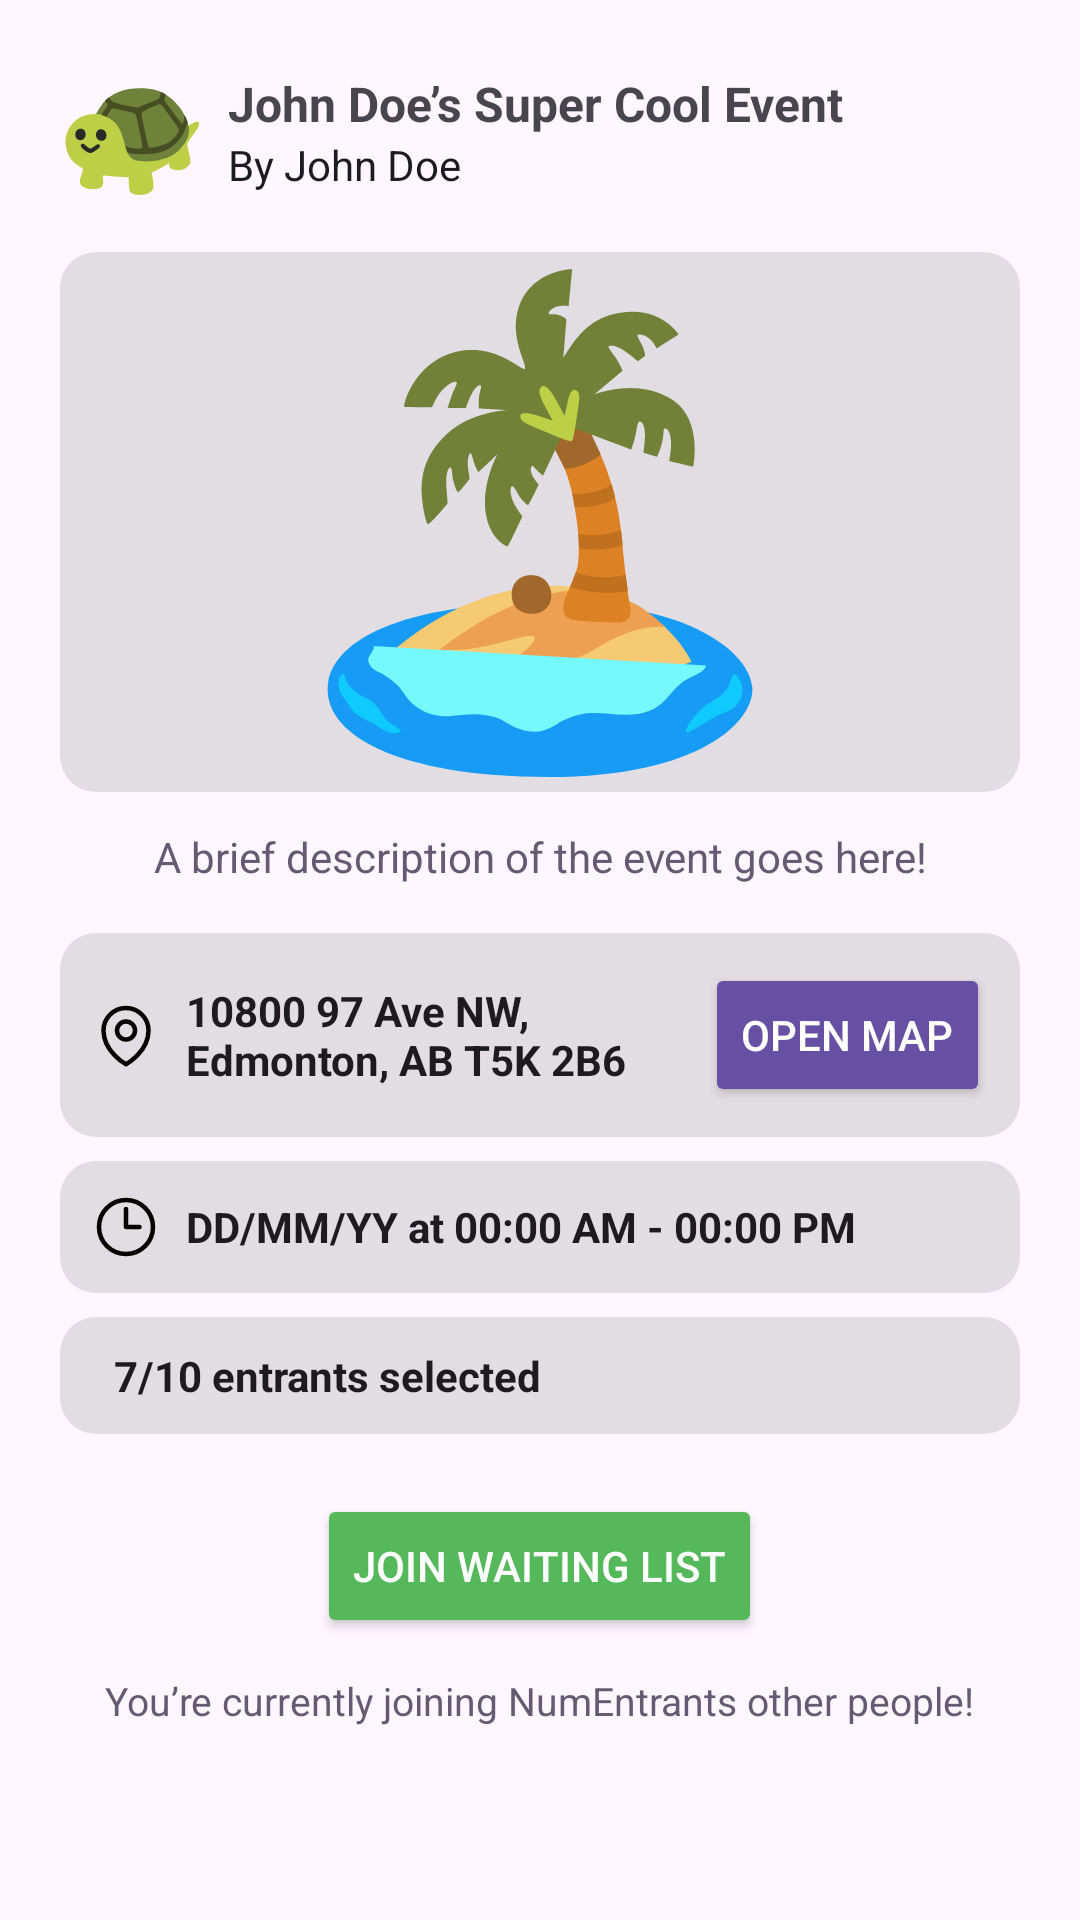

Named icons in this screenshot (1080 × 1920) and their bounding boxes, (x1, y1, x2, y2):
clock: (96, 1197, 156, 1257)
location: (101, 1005, 151, 1067)
